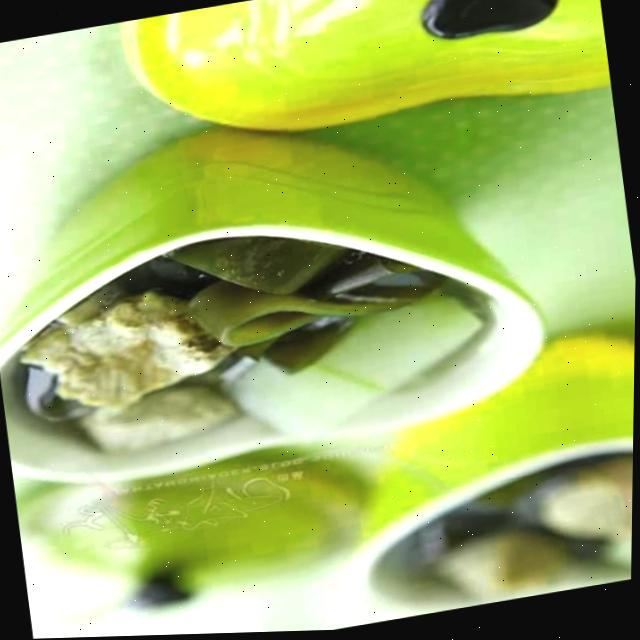汤锅炖物: (0, 115, 556, 530)
